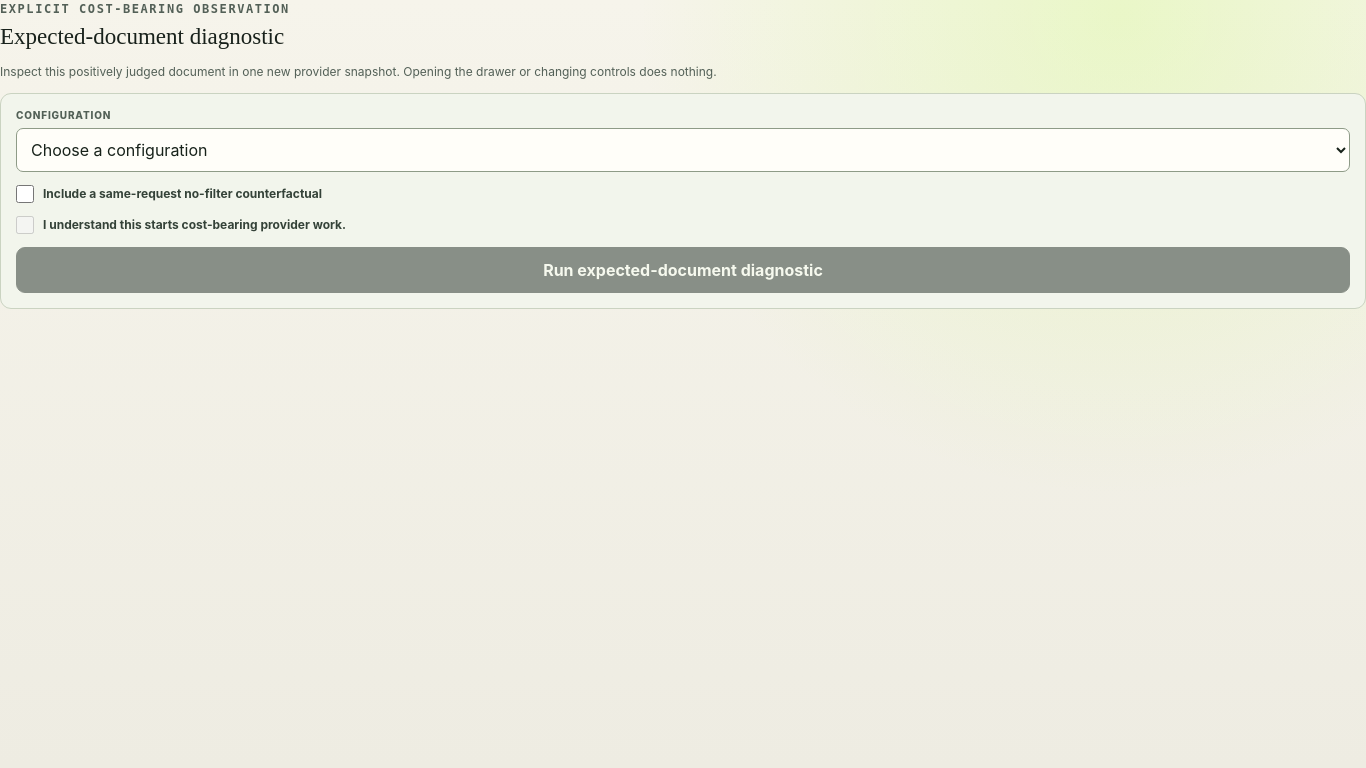
Test: ExpectedDocumentDiagnostic › renders unavailable evidence without inventing an explanation
This screenshot has width=1366, height=768.
Select "Vector ANN" in the dropdown labelled "Configuration" at (683, 150), box [16, 128, 1350, 172]
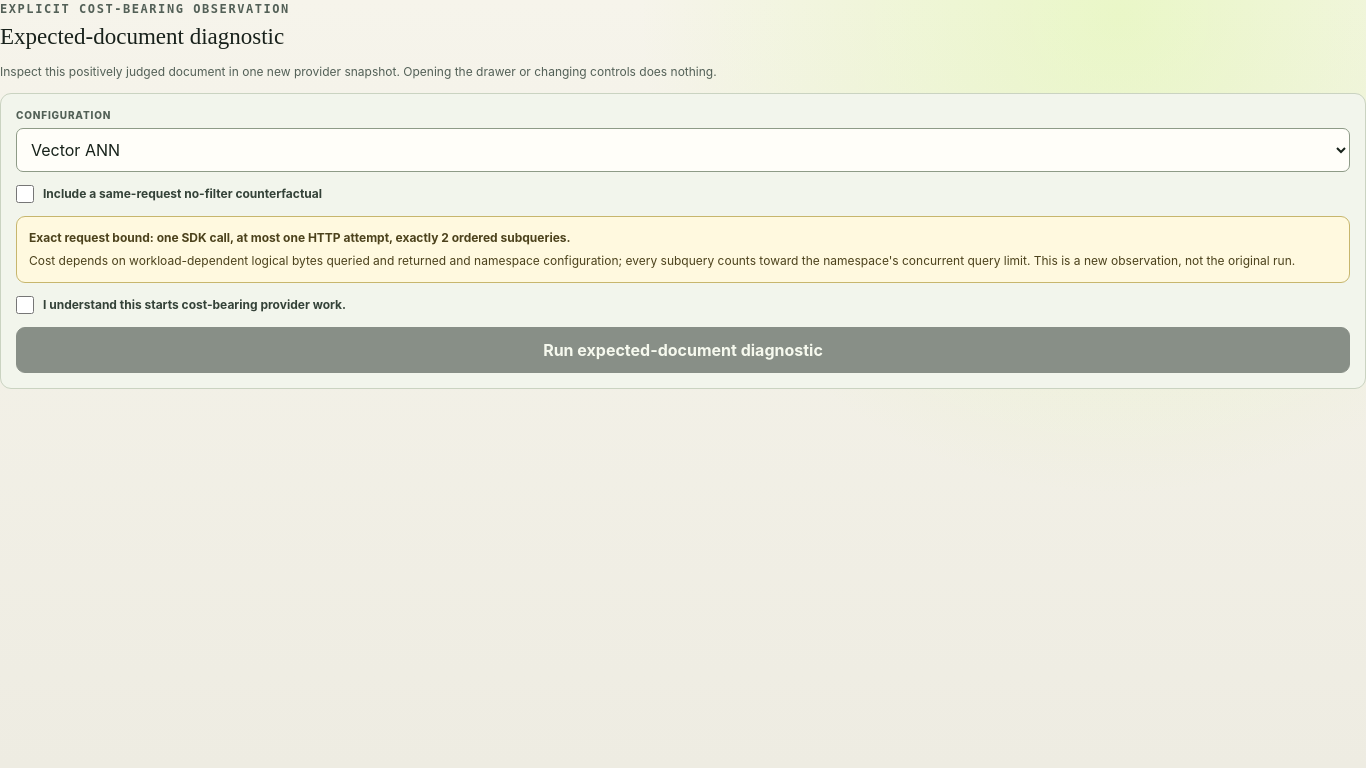
Click the checkbox labelled "I understand this starts cost-bearing provider work." at (25, 305), box [16, 296, 34, 314]
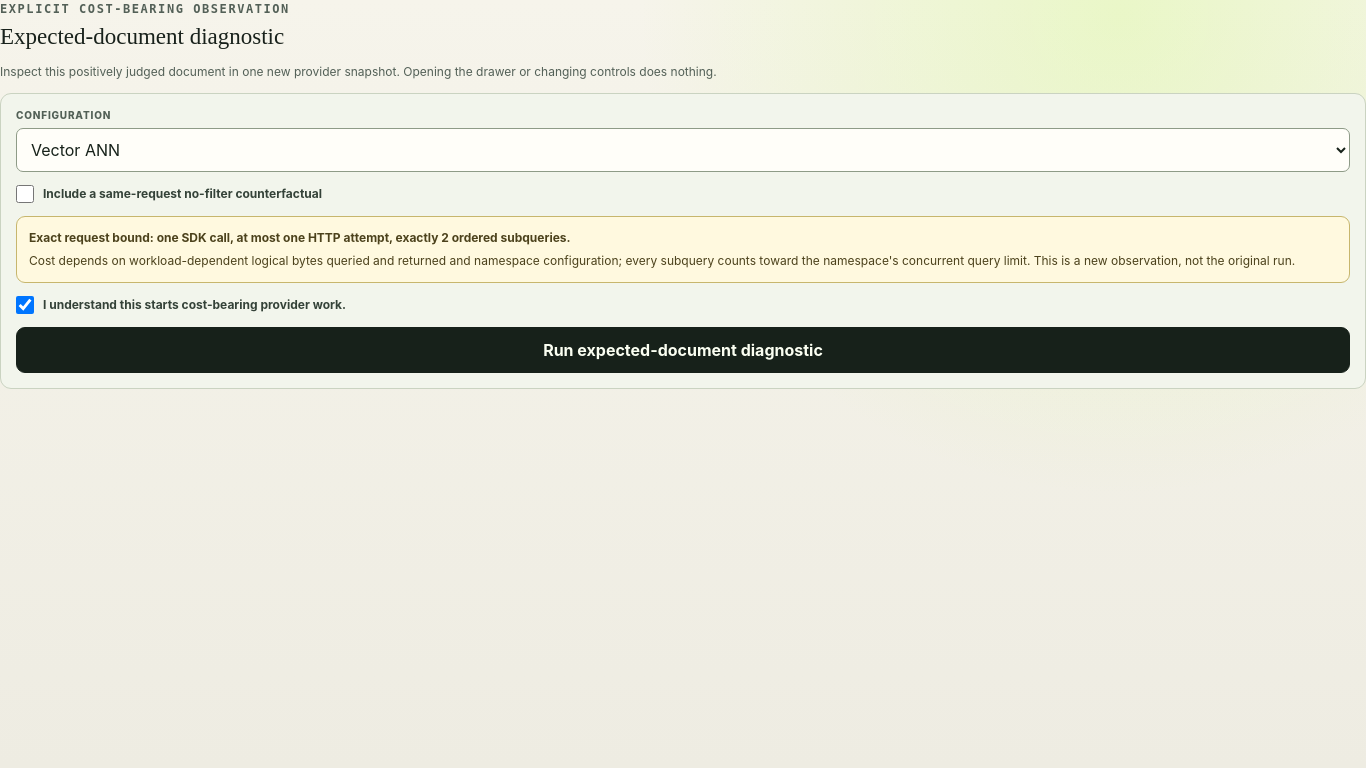
Click the button "Run expected-document diagnostic" at (683, 350), box [16, 327, 1350, 373]
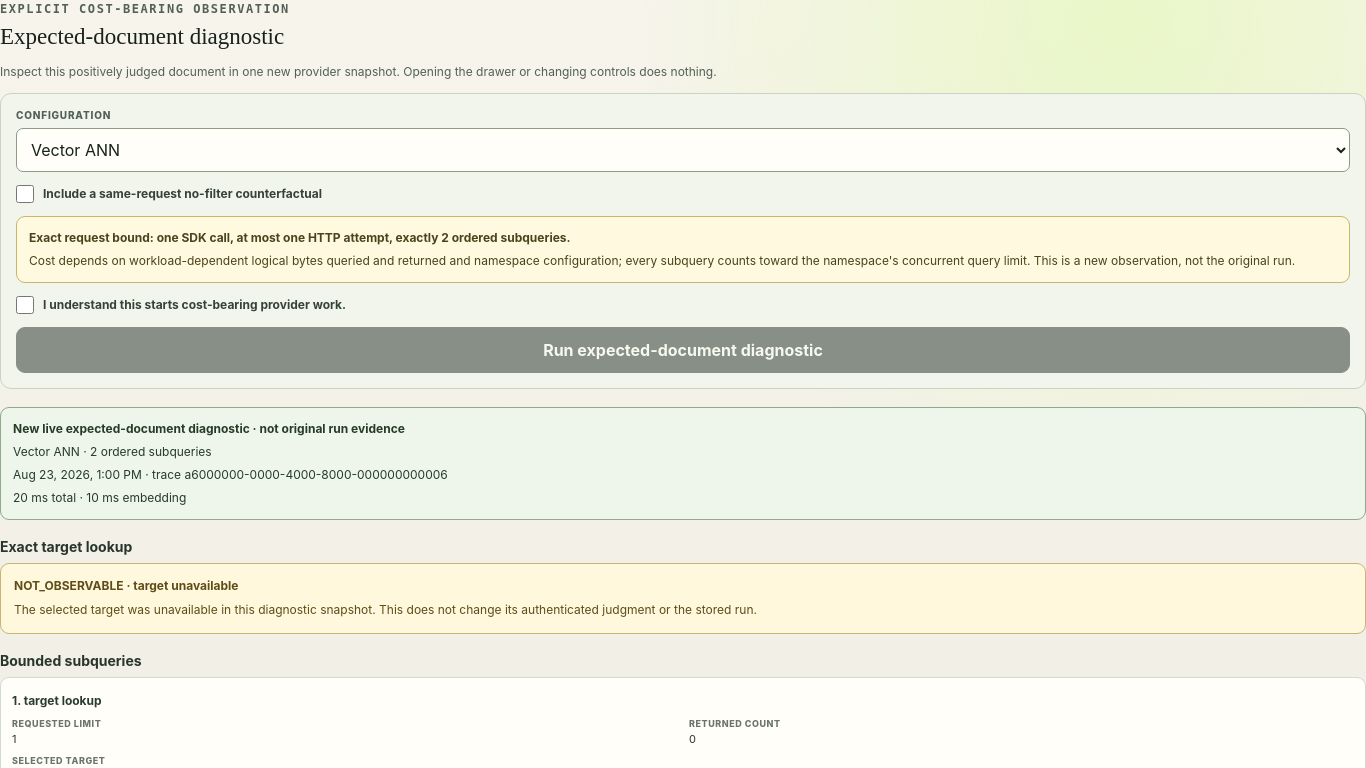
Expected: the text "NOT_OBSERVABLE · target unavailable" is shown, [14, 578, 238, 593]
Expected: the text "unavailable in this diagnostic snapshot" is shown, [14, 602, 757, 617]
